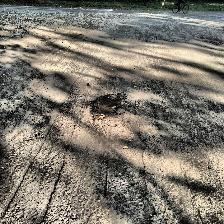pothole: (86, 91, 128, 123)
